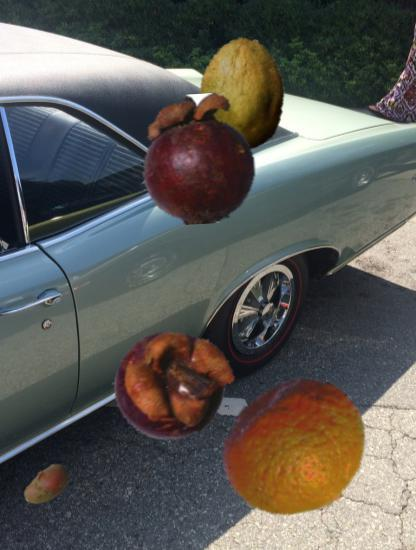Mandarine: (220, 374, 368, 522)
Mangostan: (134, 94, 264, 224), (112, 322, 235, 445)
Nut: (262, 415, 324, 477)
Papaya: (189, 39, 299, 149)
Potato: (21, 459, 73, 511)
